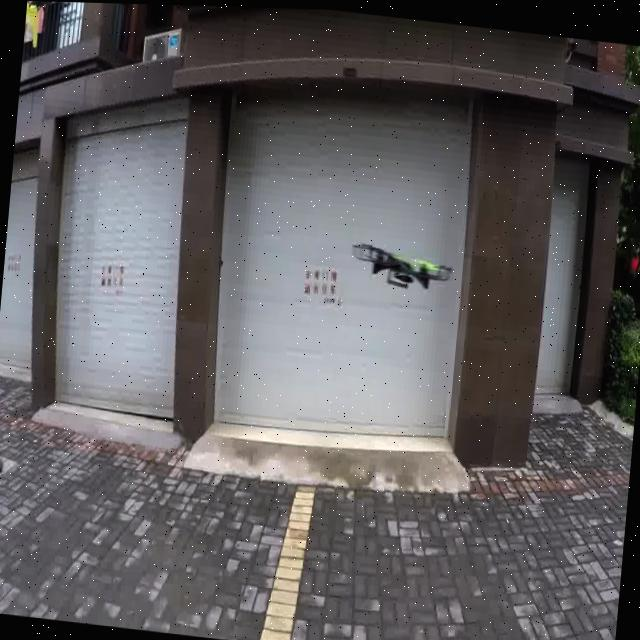drone: (347, 237, 463, 292)
